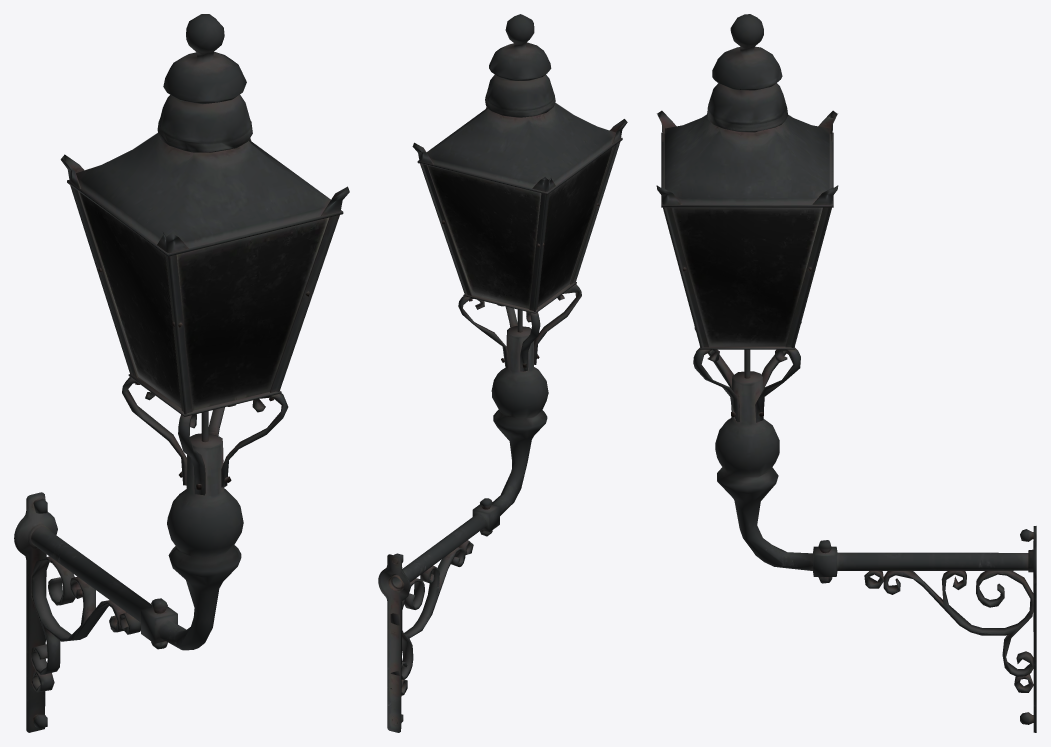
File: street_lamp_02.glb
The picture shows the model from 3 angles, left to right: view 1: azimuth 30°, elevation 25°; view 2: azimuth 150°, elevation 25°; view 3: azimuth 270°, elevation 25°; orthographic projection. The views are drawn at different scales.
Parts seen in each view (by area): view 1: street_lamp_02; view 2: street_lamp_02; view 3: street_lamp_02.
Part boxes in pixels (left/top/right/bottom): street_lamp_02: left=14, top=14, right=349, bottom=732; street_lamp_02: left=378, top=14, right=627, bottom=732; street_lamp_02: left=656, top=14, right=1036, bottom=732.
Size of the model in its own units: 0.3862 by 1.67 by 0.8067.
Materials: 2 (2 with a texture image).
